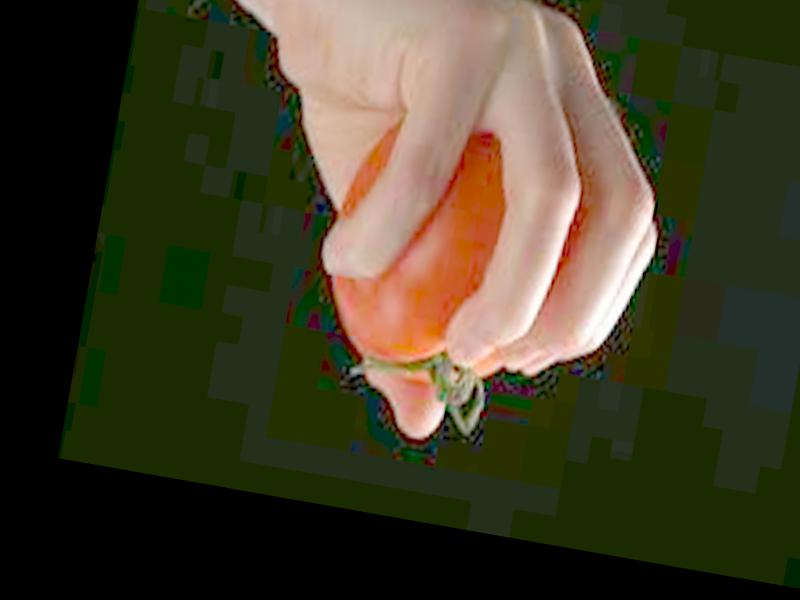Tomato: (315, 100, 546, 383)
